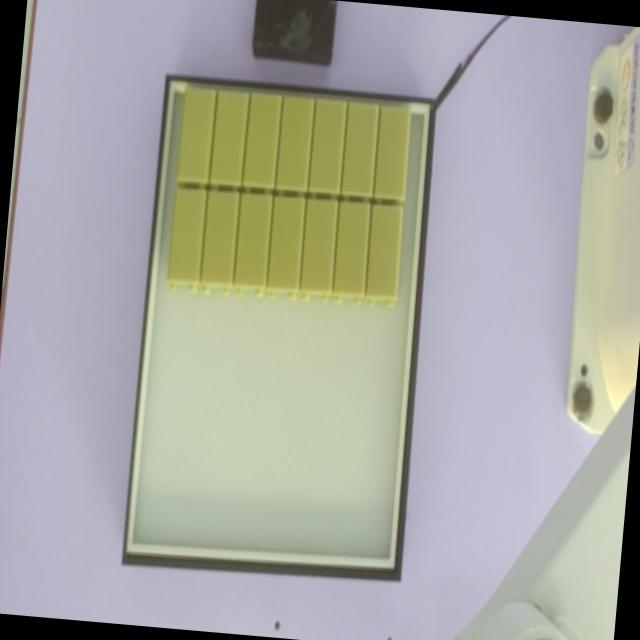bateria: (166, 187, 207, 292), (201, 190, 240, 294), (266, 195, 305, 299), (333, 202, 372, 306), (365, 203, 404, 307), (300, 198, 339, 301), (234, 193, 272, 297), (373, 104, 412, 205), (176, 88, 215, 189), (341, 102, 380, 202), (275, 95, 314, 195), (209, 91, 248, 191), (308, 99, 346, 200), (243, 92, 281, 193)
mesa: (121, 75, 437, 582)
